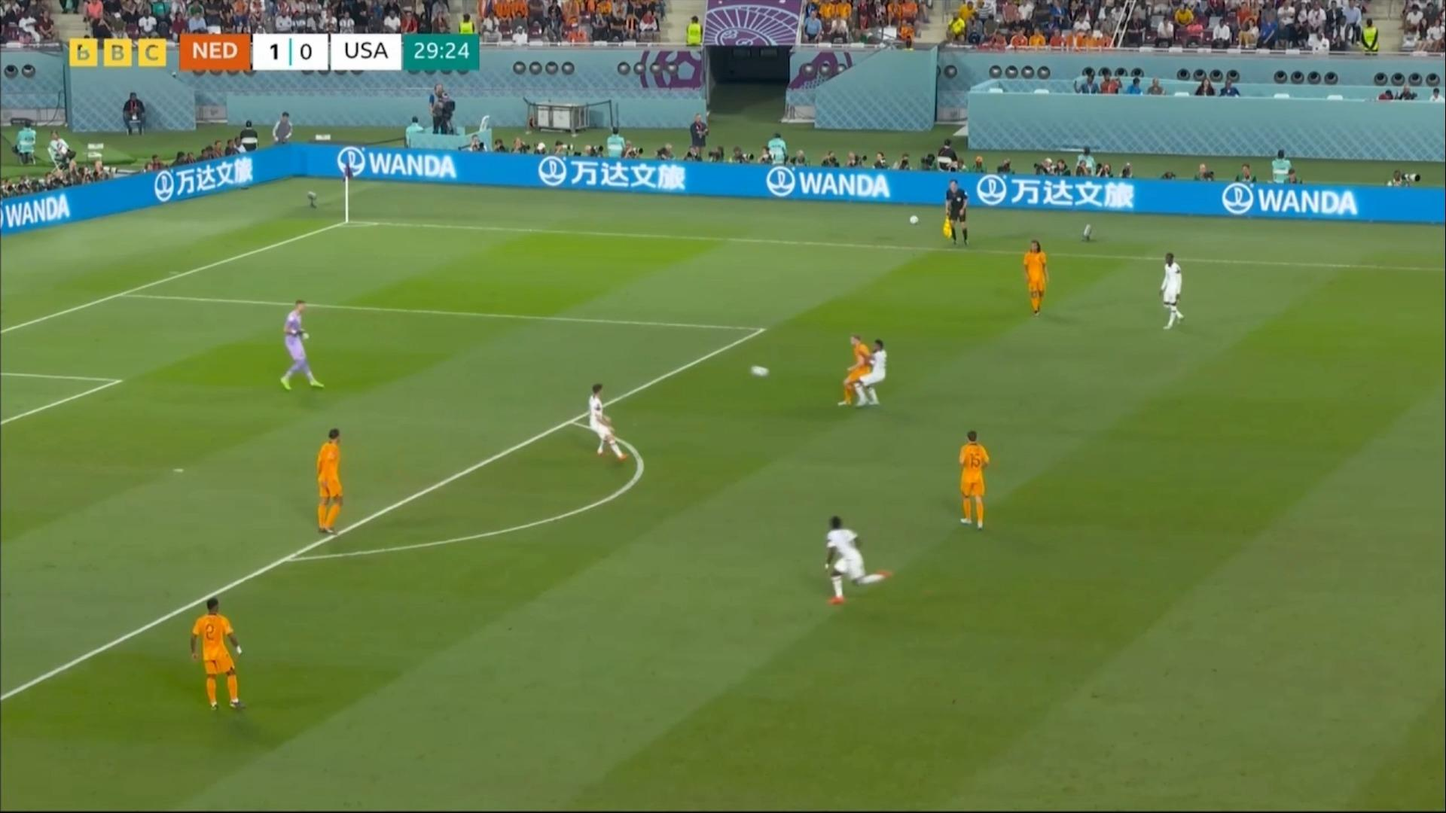Ball: (752, 365, 768, 381), (908, 213, 919, 227)
Player: (187, 597, 248, 714), (819, 511, 890, 609), (303, 425, 353, 539), (948, 428, 1000, 533), (280, 299, 324, 392), (580, 381, 628, 466), (848, 337, 894, 410), (1020, 238, 1055, 319), (1156, 251, 1190, 333)
Ref: (944, 179, 974, 250)
